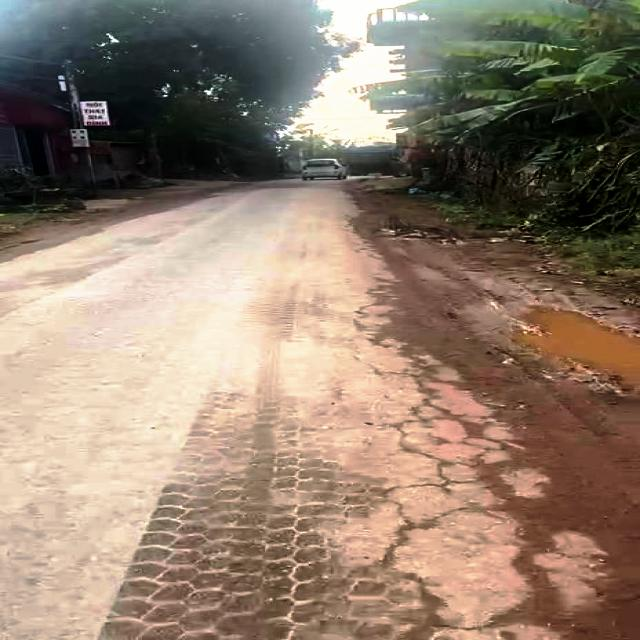pothole: (485, 298, 640, 391)
